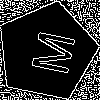M: (21, 27, 76, 77)
